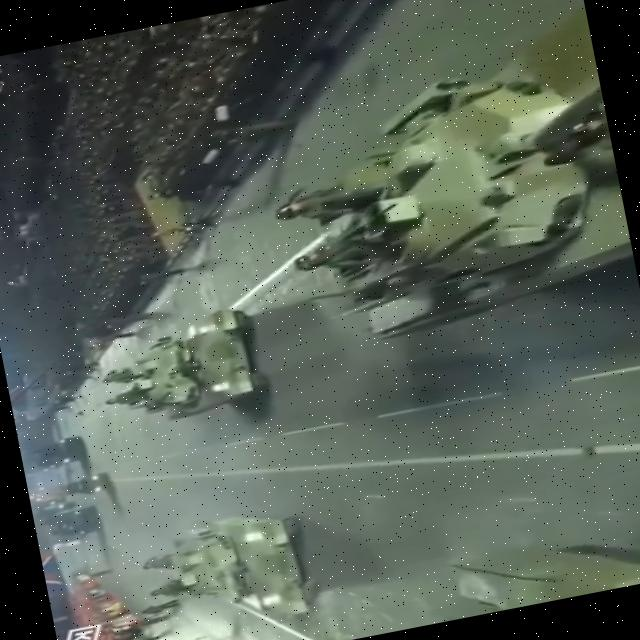north tank: (245, 0, 640, 418), (103, 480, 356, 640), (80, 291, 317, 448)
